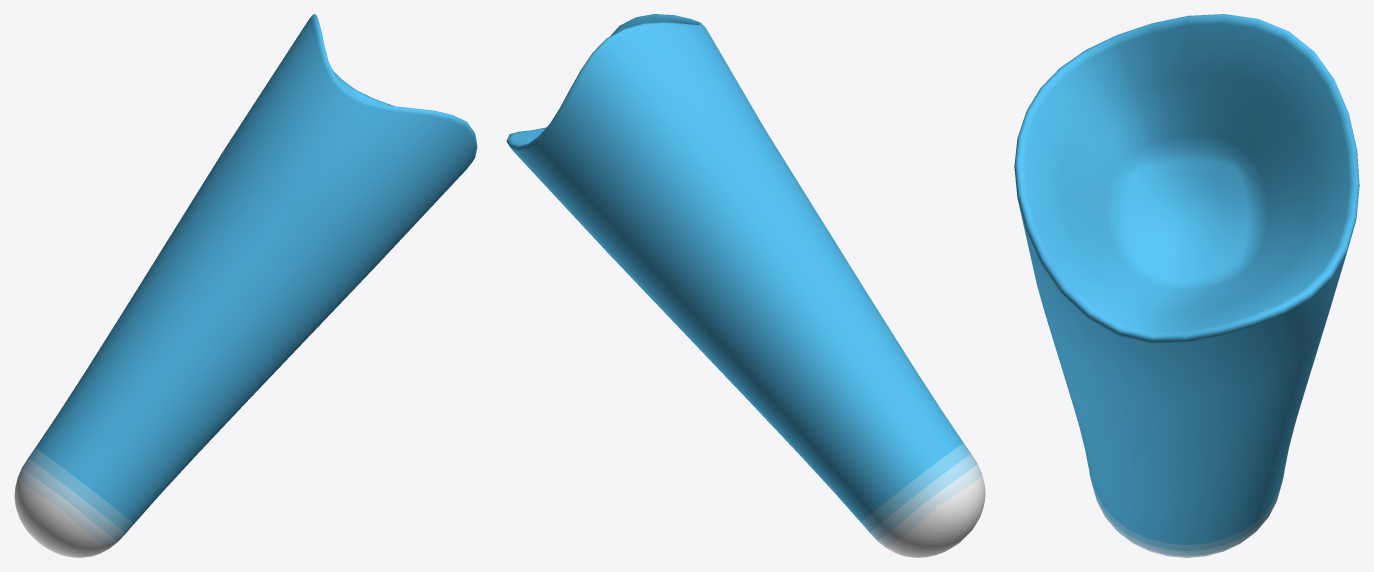
Rendered from comet.glb.
The picture shows the model from 3 angles, left to right: view 1: azimuth 30°, elevation 25°; view 2: azimuth 150°, elevation 25°; view 3: azimuth 270°, elevation 25°; orthographic projection. The views are drawn at different scales.
Visible parts, largest first — view 1: Cube.224; view 2: Cube.224; view 3: Cube.224.
Boxes of the visible parts, x1,y1,x2,y2 form: Cube.224: (14,14,477,557); Cube.224: (506,14,985,557); Cube.224: (1014,14,1359,557).
Bounding box in the file's own units: 2.06 × 2.09 × 0.8836.
1 material, 1 textured.
